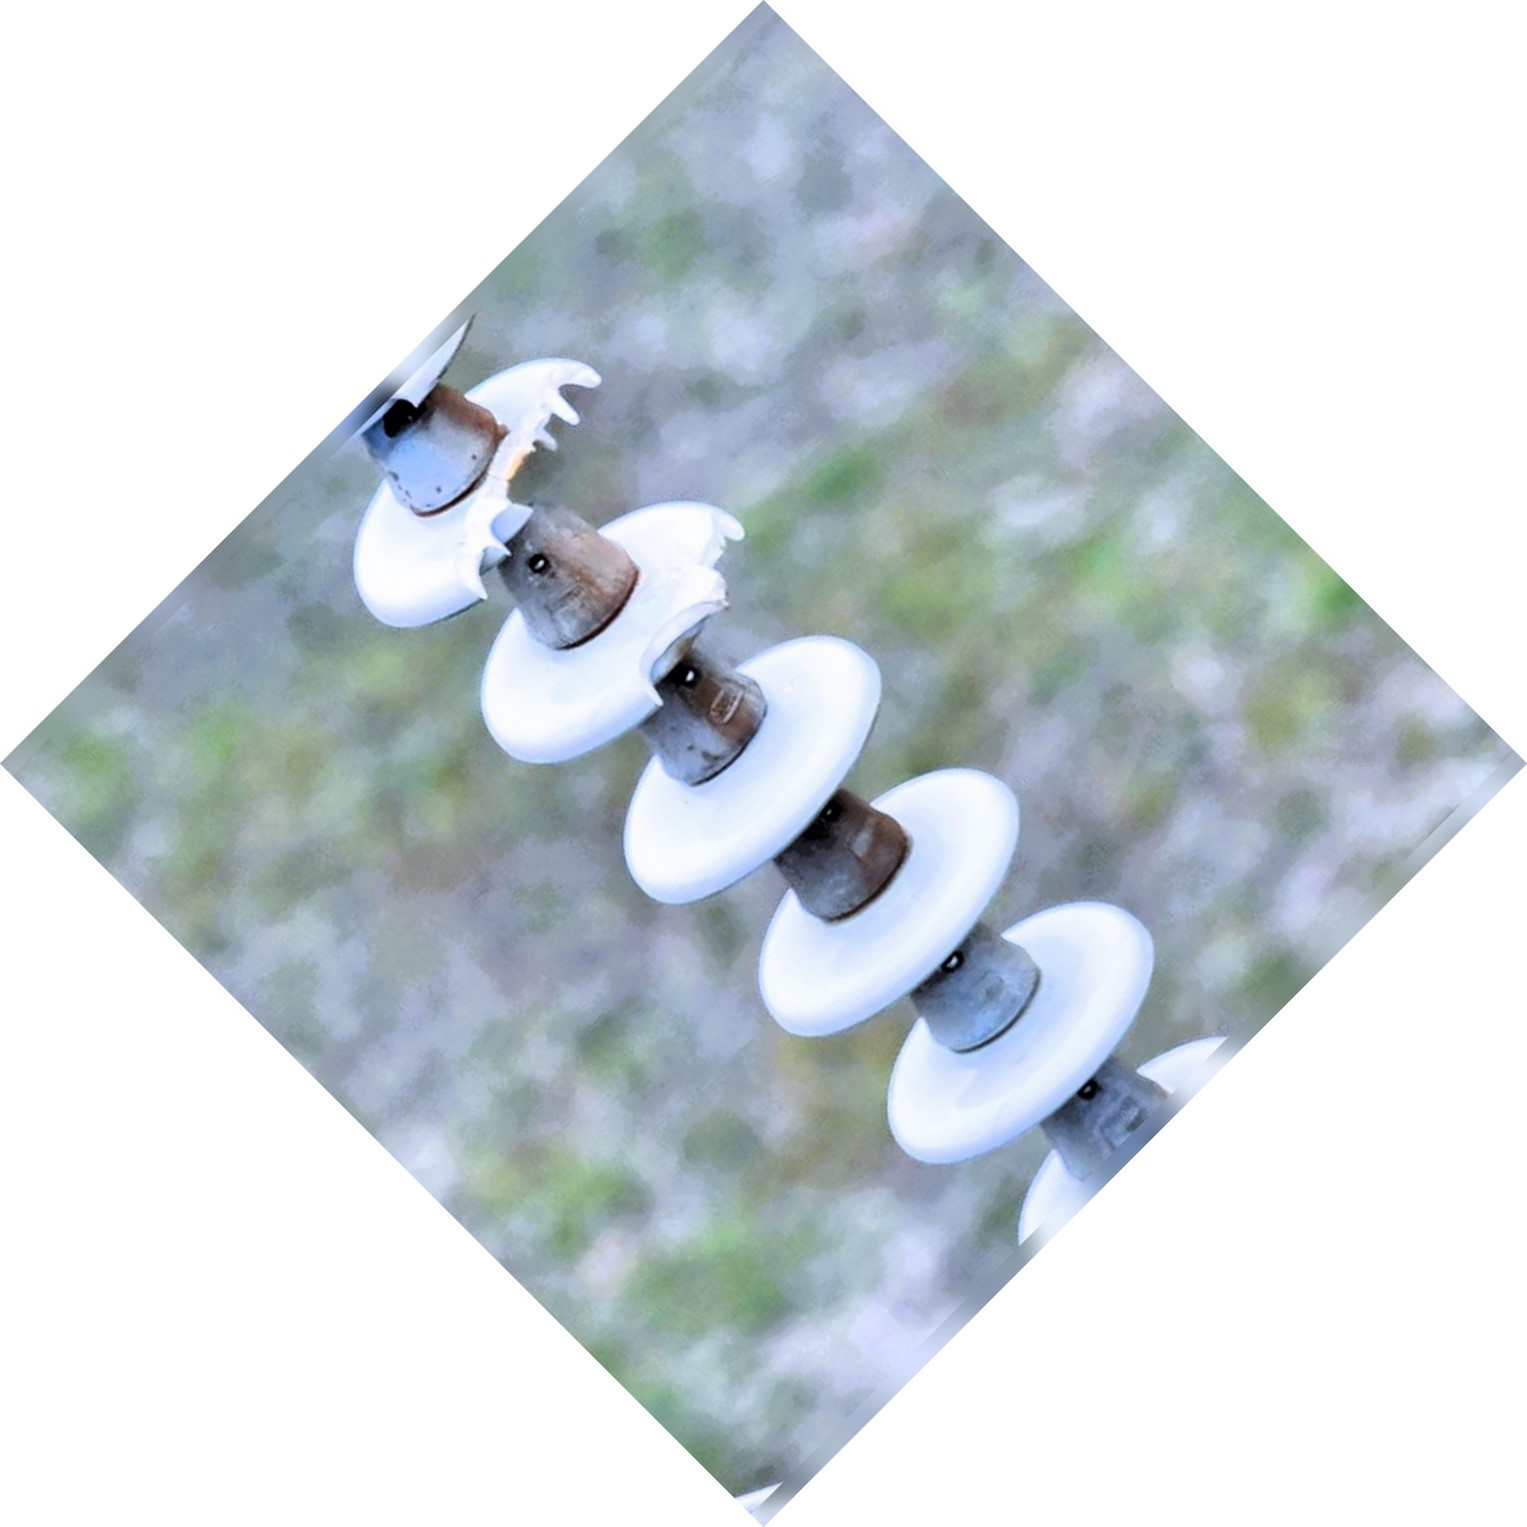insulator breakage: (351, 338, 766, 776)
